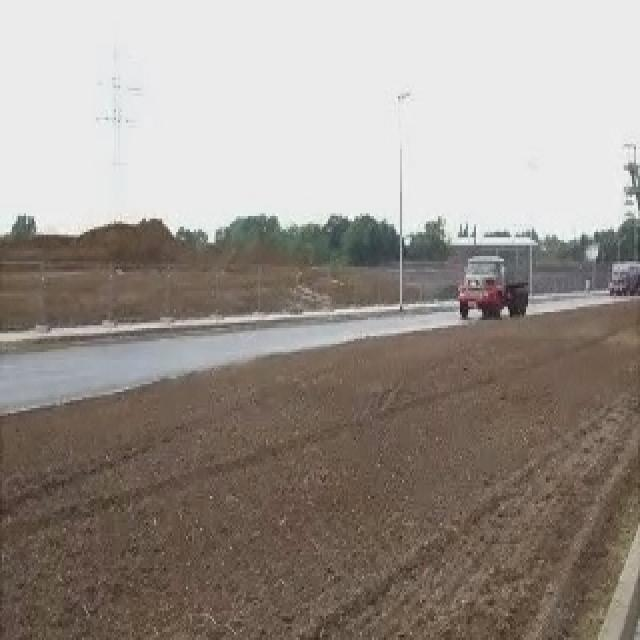Vehicle: (456, 253, 532, 318), (608, 259, 640, 297)
